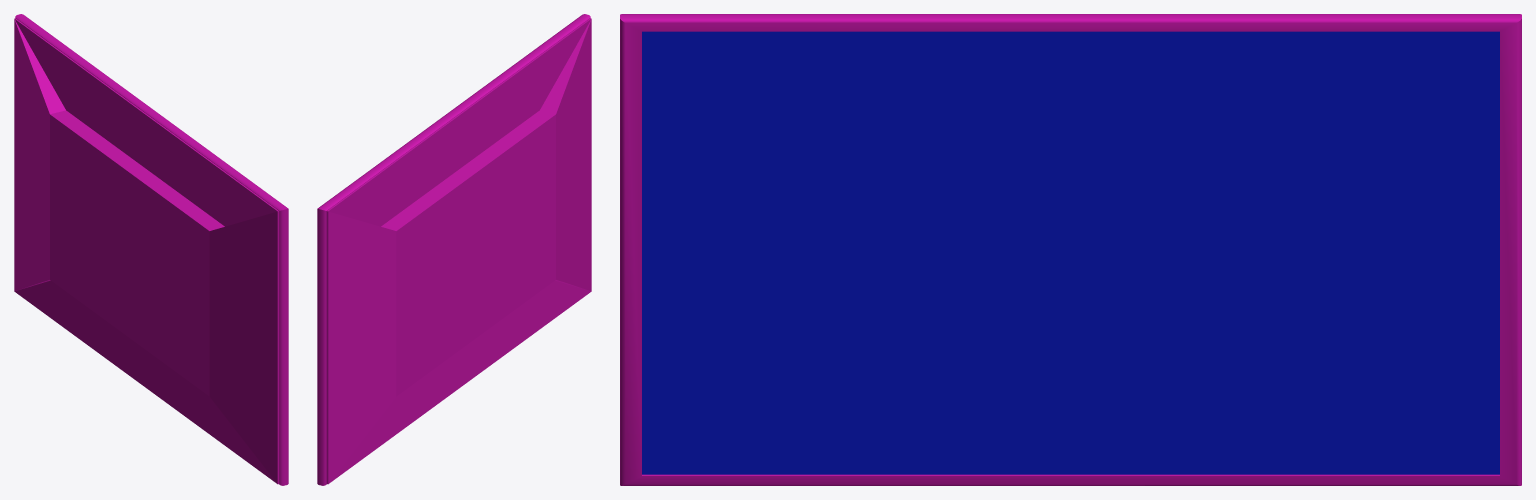
The model's file is S_TVScreen.fbx.
3 renders of one model, left to right at view 1: azimuth 30°, elevation 25°; view 2: azimuth 150°, elevation 25°; view 3: azimuth 270°, elevation 25°, orthographic. The views are drawn at different scales.
Parts seen in each view (by area): view 1: Cube; view 2: Cube; view 3: Cube.
Boxes of the visible parts, left/top/right/bottom form: Cube: left=14, top=14, right=288, bottom=485; Cube: left=317, top=14, right=591, bottom=485; Cube: left=620, top=14, right=1521, bottom=485.
Bounding box in the file's own units: 2.25 × 22.05 × 38.58.
